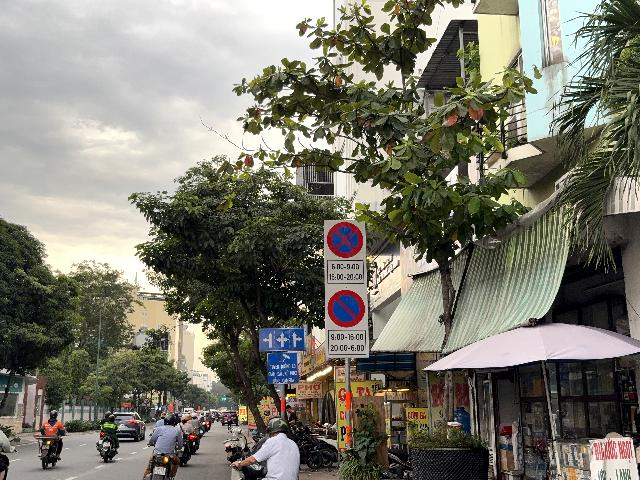cam-do-xe: (328, 289, 365, 327)
cam-dung-va-do-xe: (327, 222, 363, 258)
